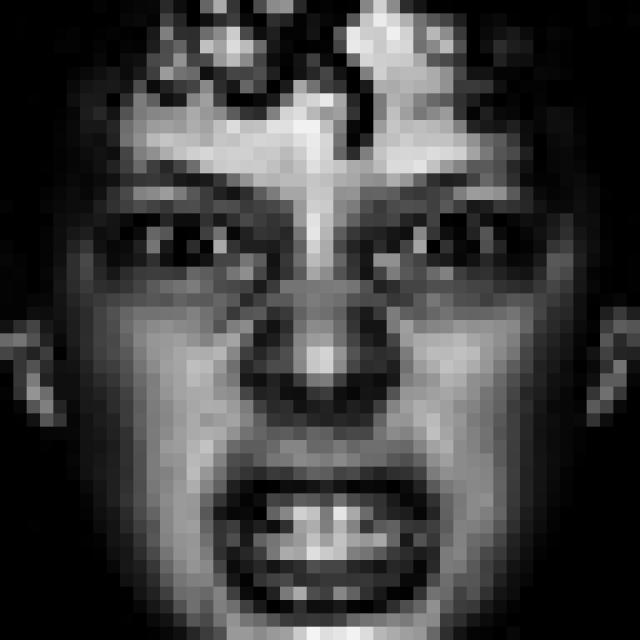angry: (102, 148, 544, 627)
